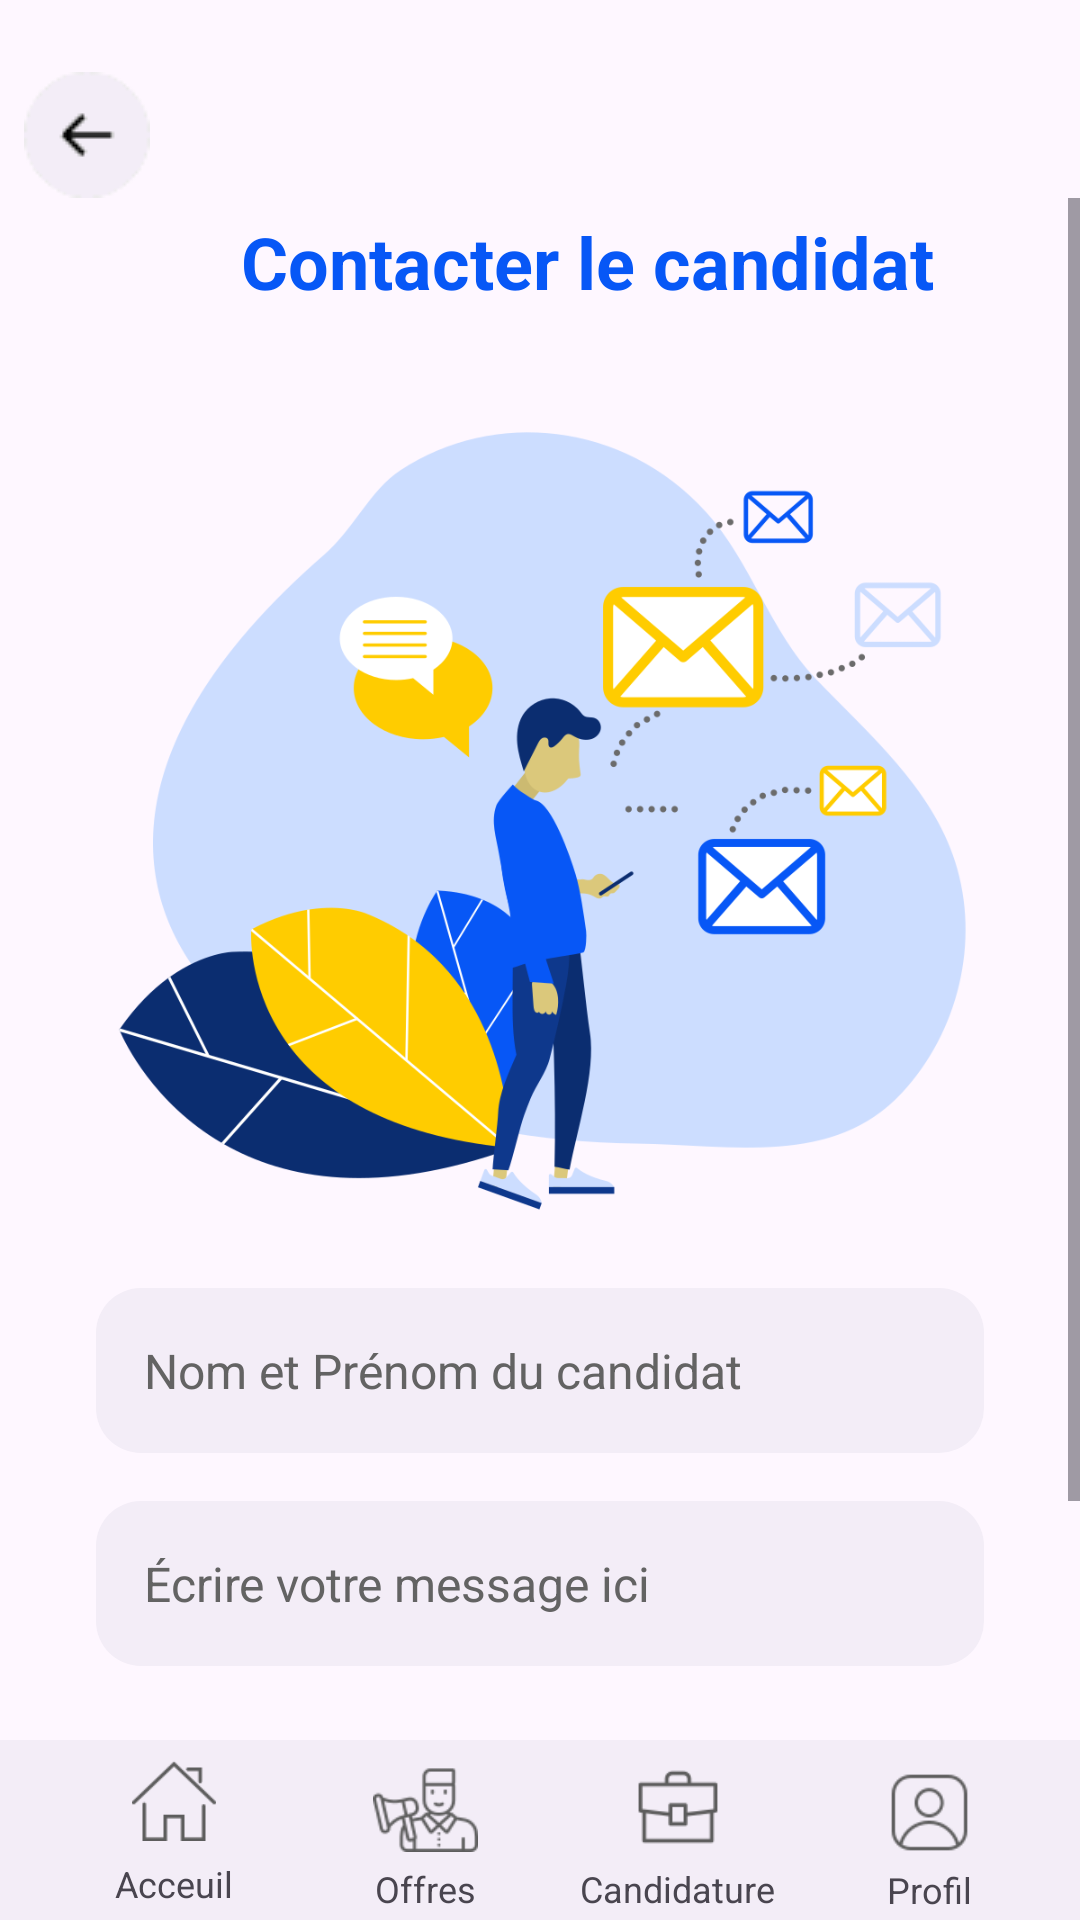

Icons on this 1080x1920 Android screen, each with its box as {"x1": x1, "y1": y1, "x2": x2, "y2": y2}:
back: {"x1": 24, "y1": 72, "x2": 150, "y2": 198}
recruiter: {"x1": 373, "y1": 1768, "x2": 478, "y2": 1852}
user: {"x1": 891, "y1": 1774, "x2": 968, "y2": 1851}
